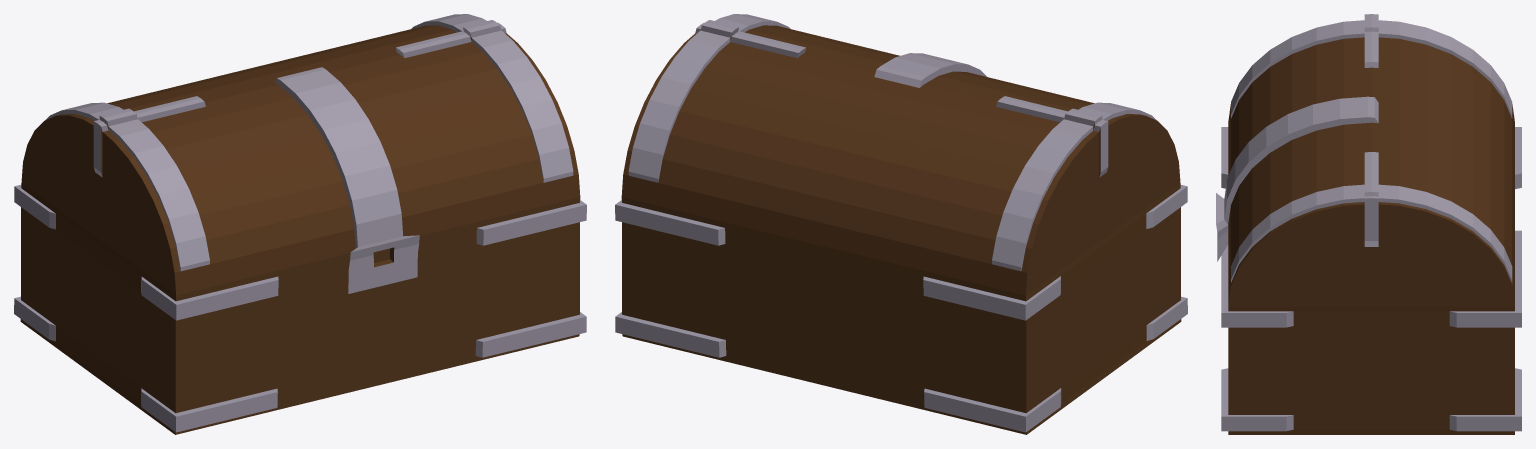
File: chest.obj
3 renders of one model, left to right at view 1: azimuth 30°, elevation 25°; view 2: azimuth 150°, elevation 25°; view 3: azimuth 270°, elevation 25°, orthographic. The views are drawn at different scales.
Visible parts, largest first — view 1: Cylinder; view 2: Cylinder; view 3: Cylinder.
Part boxes in pixels (x1,y1,x2,y2): Cylinder: (14,14,586,434); Cylinder: (615,14,1187,434); Cylinder: (1216,14,1521,434).
Size of the model in its own units: 3.07 by 1.85 by 2.13.
